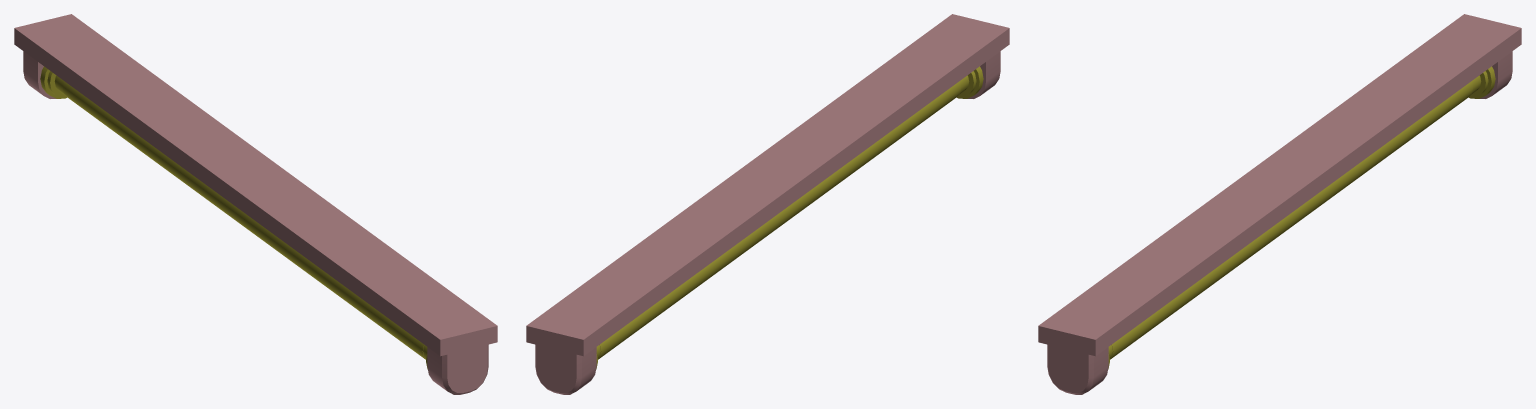
The model's file is fluorescente.fbx.
3 renders of one model, left to right at view 1: azimuth 30°, elevation 25°; view 2: azimuth 150°, elevation 25°; view 3: azimuth 330°, elevation 25°, orthographic.
Parts seen in each view (by area): view 1: Fluorescent_Lamp; view 2: Fluorescent_Lamp; view 3: Fluorescent_Lamp.
Boxes of the visible parts, x1,y1,x2,y2 form: Fluorescent_Lamp: [14, 14, 497, 394]; Fluorescent_Lamp: [526, 14, 1009, 394]; Fluorescent_Lamp: [1038, 14, 1521, 394].
Bounding box in the file's own units: 0.5746 × 0.6078 × 7.39.
